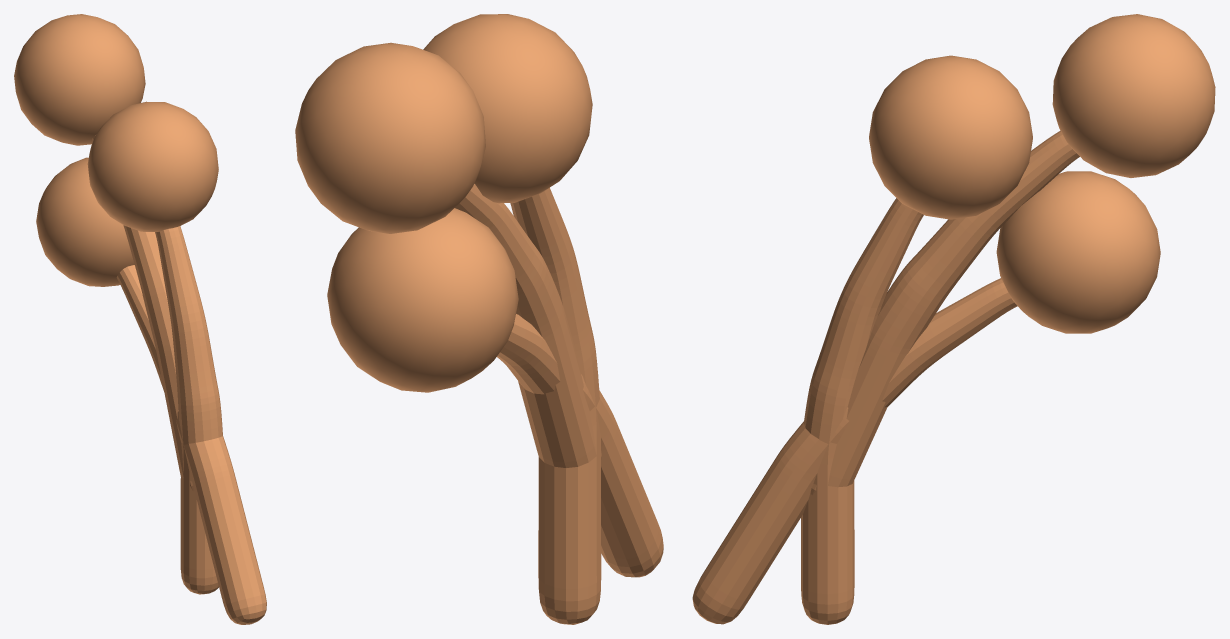
File: Decoration1.fbx
3 renders of one model, left to right at view 1: azimuth 30°, elevation 25°; view 2: azimuth 150°, elevation 25°; view 3: azimuth 270°, elevation 25°, orthographic. The views are drawn at different scales.
Parts seen in each view (by area): view 1: Icosphere.006, Icosphere.008, Plane, Plane.001, Icosphere.007, Plane.002; view 2: Icosphere.008, Icosphere.007, Icosphere.006, Plane, Plane.002, Plane.001; view 3: Icosphere.006, Icosphere.008, Icosphere.007, Plane, Plane.001, Plane.002.
Part boxes in pixels (left/top/right/bottom): Icosphere.006: left=87, top=101, right=218, bottom=231; Icosphere.008: left=14, top=14, right=145, bottom=145; Plane: left=155, top=226, right=222, bottom=594; Plane.001: left=116, top=265, right=266, bottom=624; Icosphere.007: left=36, top=157, right=134, bottom=286; Plane.002: left=92, top=135, right=194, bottom=491; Icosphere.008: left=295, top=42, right=485, bottom=233; Icosphere.007: left=327, top=208, right=518, bottom=392; Icosphere.006: left=423, top=14, right=592, bottom=203; Plane: left=510, top=187, right=601, bottom=624; Plane.002: left=455, top=184, right=601, bottom=467; Plane.001: left=497, top=314, right=663, bottom=577; Icosphere.006: left=869, top=55, right=1032, bottom=219; Icosphere.008: left=1052, top=14, right=1215, bottom=177; Icosphere.007: left=996, top=171, right=1160, bottom=333; Plane: left=801, top=198, right=923, bottom=624; Plane.001: left=692, top=278, right=1017, bottom=624; Plane.002: left=810, top=130, right=1079, bottom=495.
Size of the model in its own units: 41.1 by 166 by 131.
